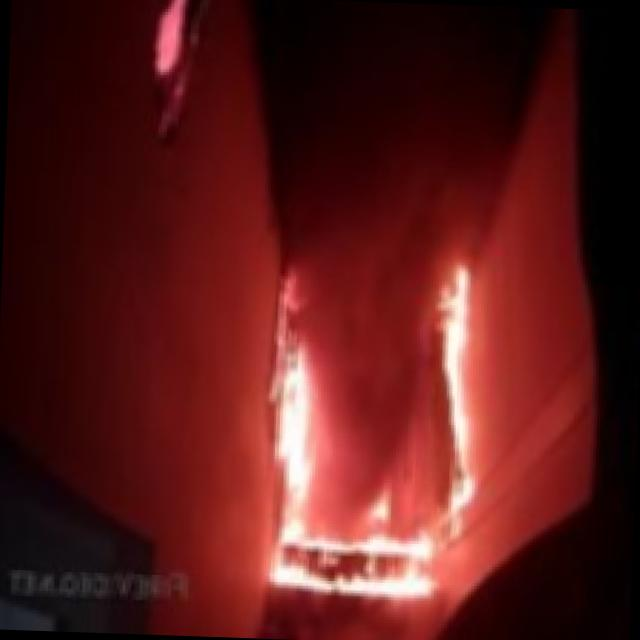fire: (234, 252, 486, 617)
